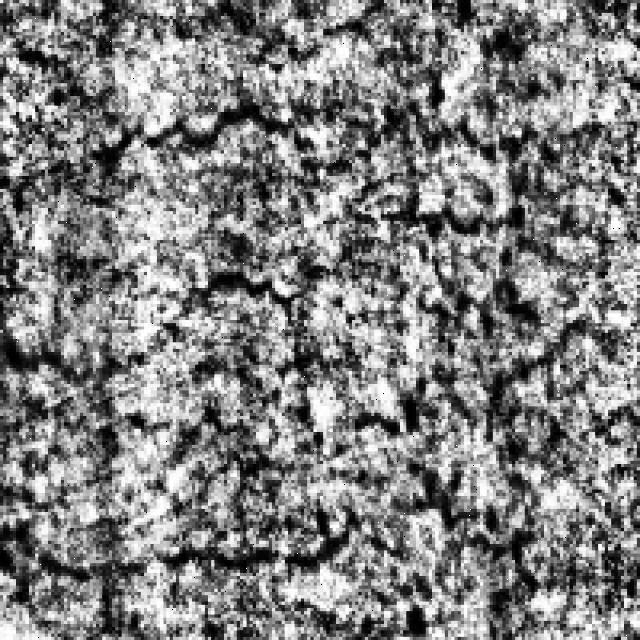Pitted_Surface: (9, 390, 566, 596), (9, 83, 556, 240), (12, 269, 580, 381)
